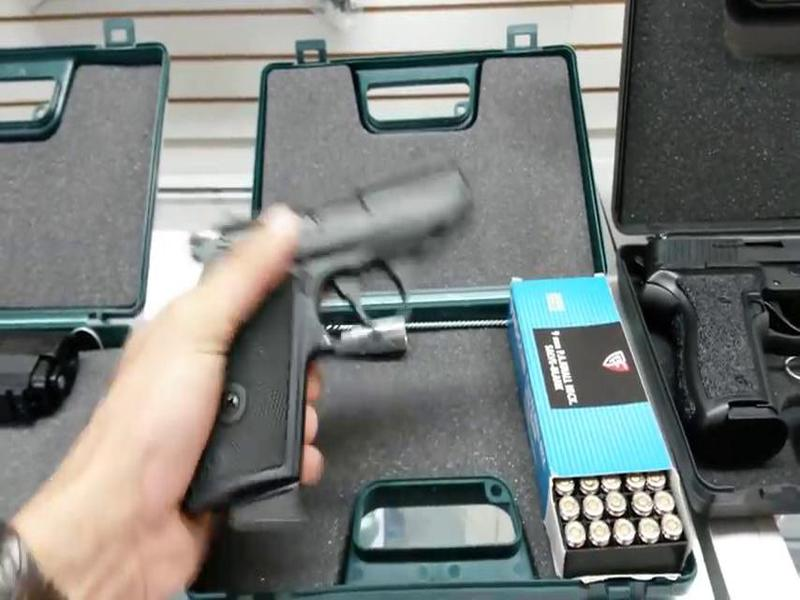Pistola: (170, 146, 491, 518)
